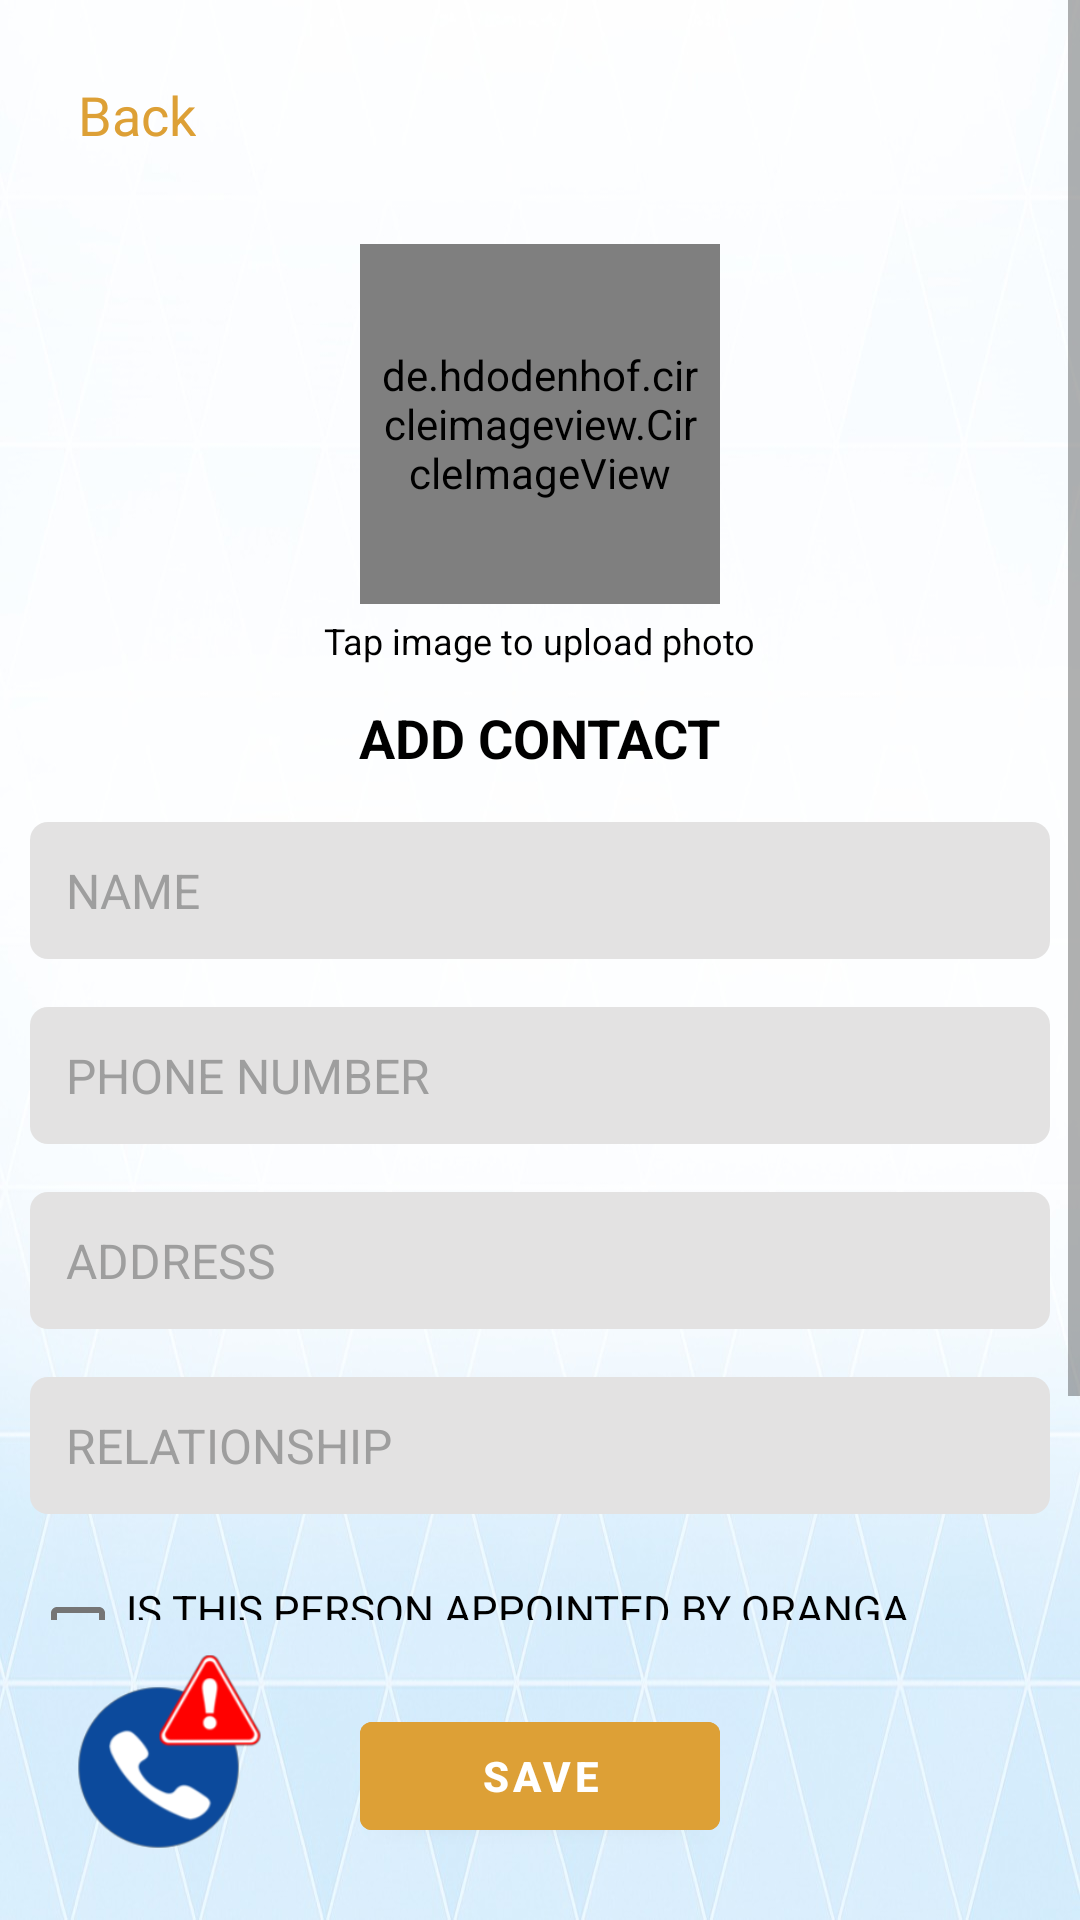

Locate icon controls on the screen. Image size 1080 x 1920, boxes as (left=x1, top=y1, right=x2, bottom=y2).
emergencybutton: (left=78, top=1653, right=267, bottom=1848)
